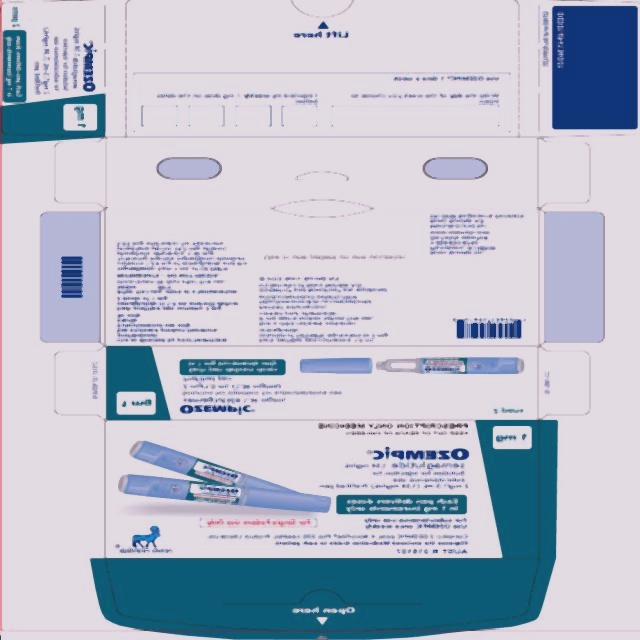Artwork: (0, 0, 640, 640)
Back_Panel: (100, 294, 535, 432)
Bottom_Part: (1, 503, 102, 640)
Extra_Areas: (101, 503, 535, 640), (101, 431, 534, 503), (535, 294, 601, 431), (34, 294, 99, 431), (80, 23, 101, 220), (48, 219, 102, 293), (48, 431, 101, 504), (535, 220, 588, 293), (534, 432, 587, 502), (536, 10, 551, 82)
Front_Panel: (102, 82, 535, 220)
Side_Panel: (101, 4, 534, 82), (103, 219, 535, 294)
Top_Panel: (535, 503, 638, 640)
